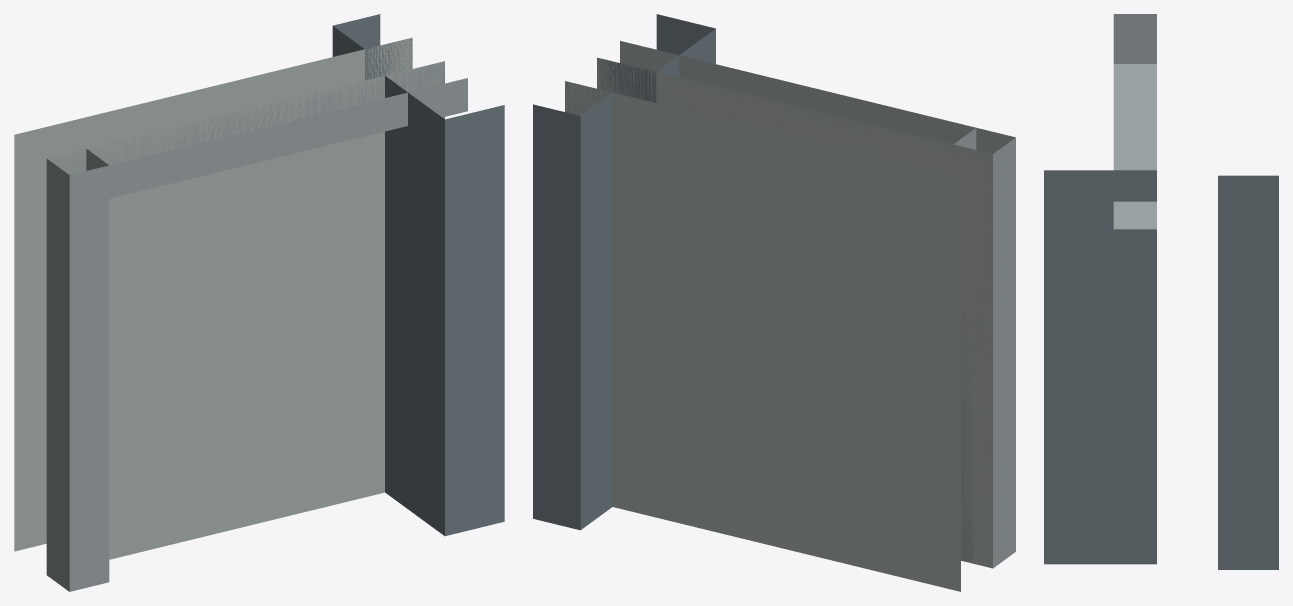
Rendered from cell_93.obj.
3 renders of one model, left to right at view 1: azimuth 30°, elevation 25°; view 2: azimuth 150°, elevation 25°; view 3: azimuth 270°, elevation 25°, orthographic. The views are drawn at different scales.
Bounding box in the file's own units: 1 × 1 × 0.54.
